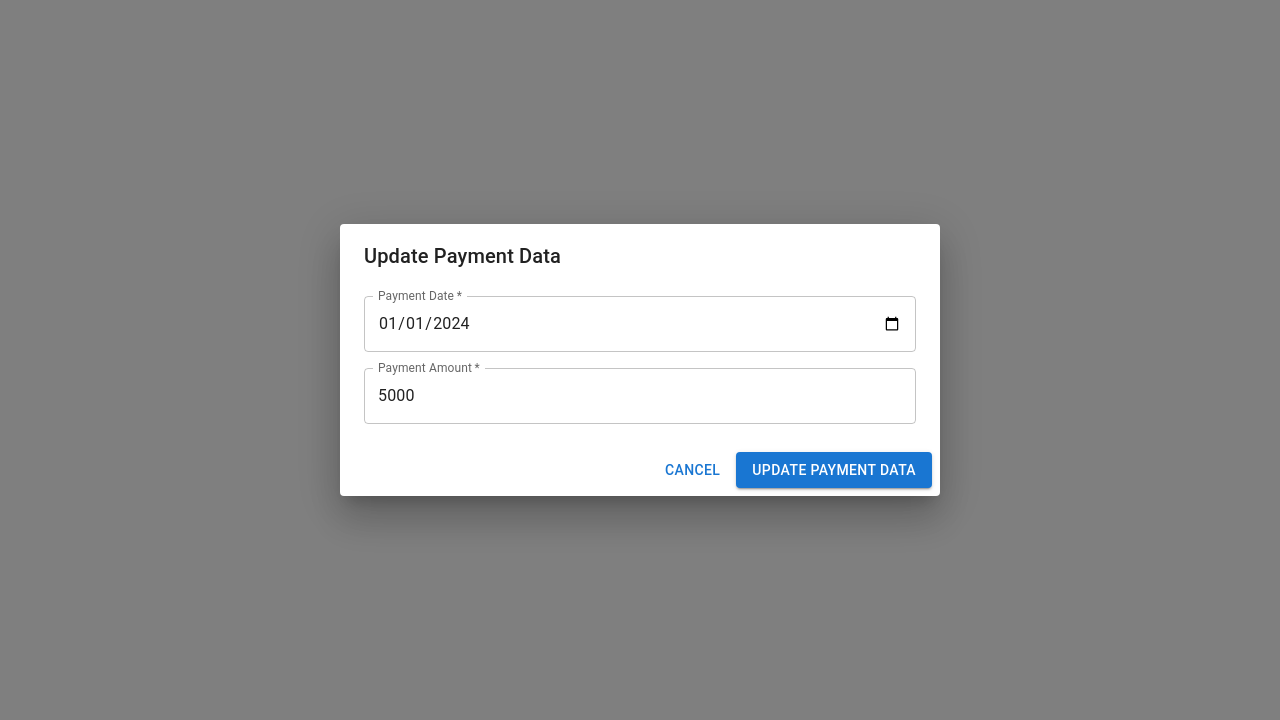
PaymentDataForm › handles API error
Click the button "Update Payment Data" at (834, 470), box [736,452,932,488]
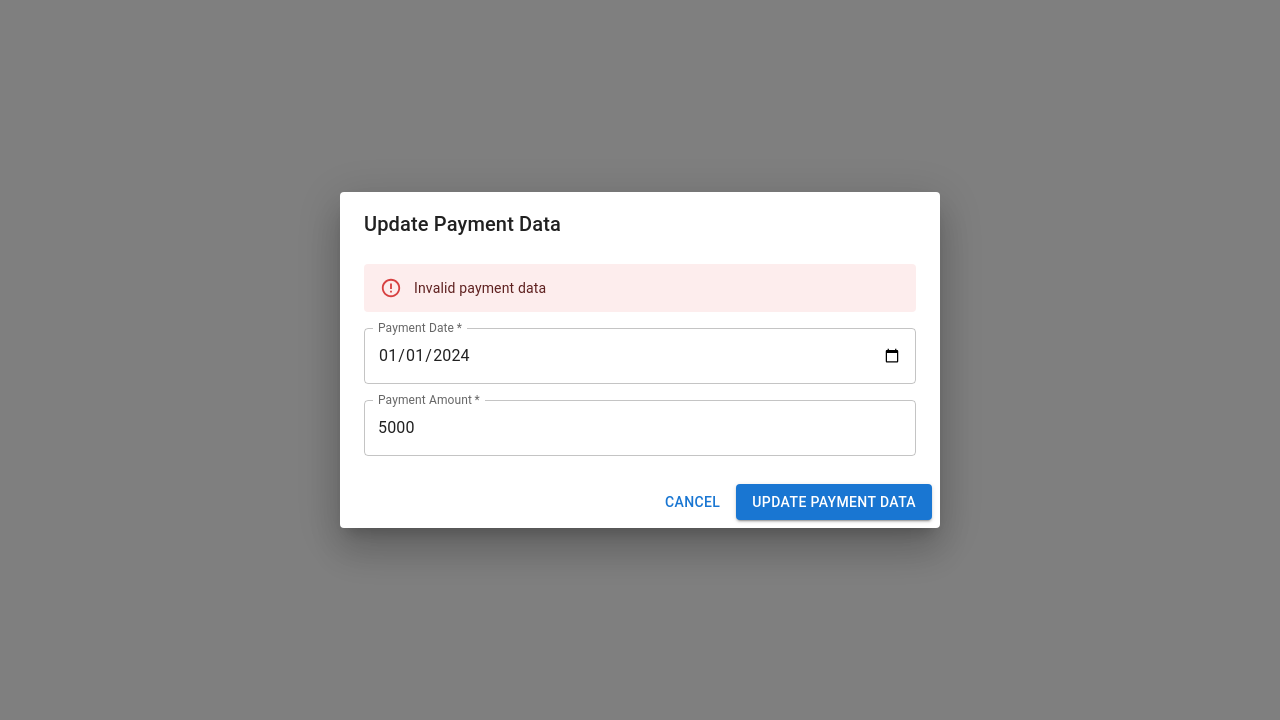
Check: the text "Invalid payment data" is shown, box [414,280,546,296]
